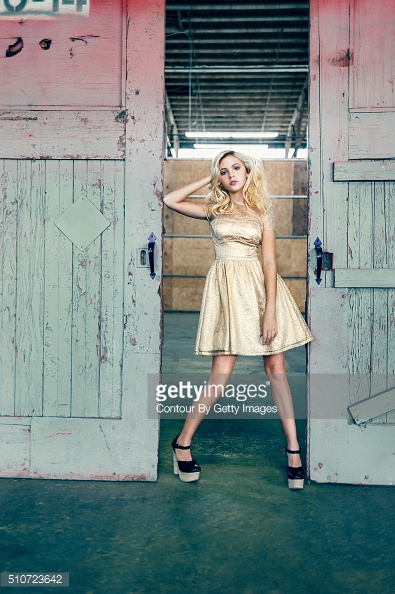em pe: (165, 117, 304, 483)
